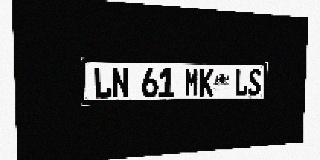1: (158, 68, 174, 97)
6: (142, 68, 158, 98)
K: (199, 68, 214, 96)
L: (94, 67, 111, 99), (235, 69, 248, 96)
M: (184, 68, 199, 97)
N: (112, 67, 129, 98)
S: (248, 69, 261, 95)
